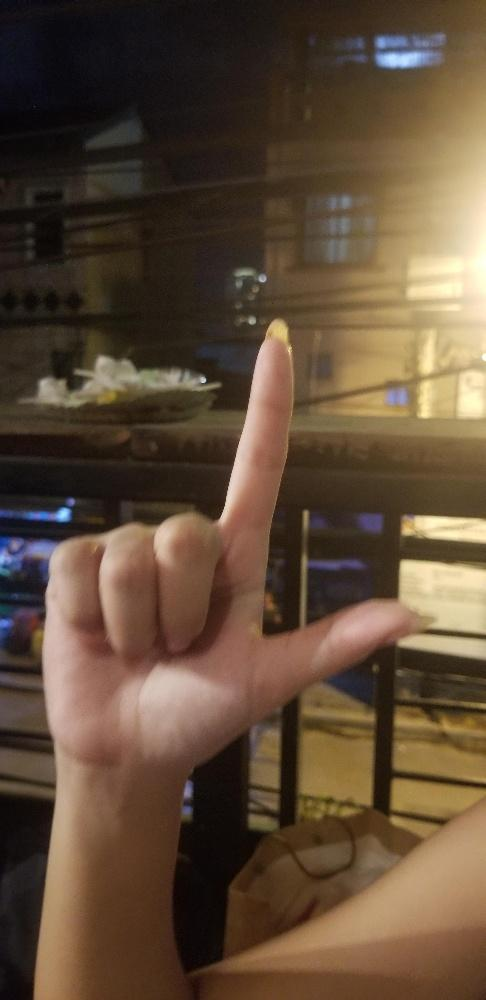l: (35, 312, 435, 779)
